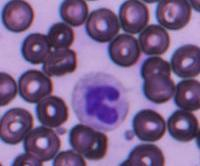N: (73, 72, 130, 131)
